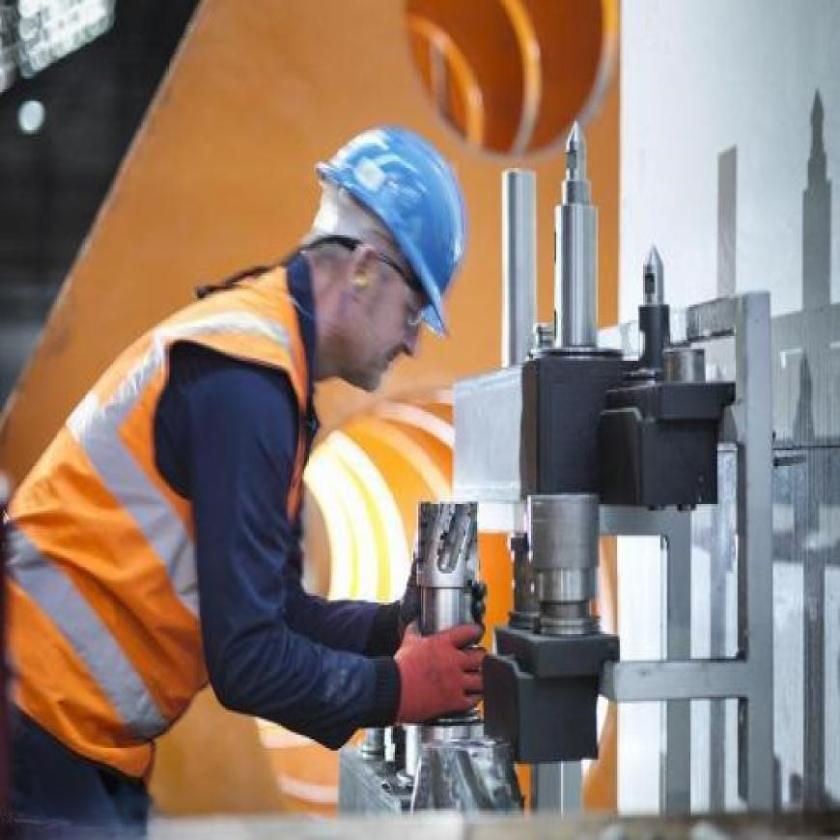Con_casco: (303, 112, 474, 417)
